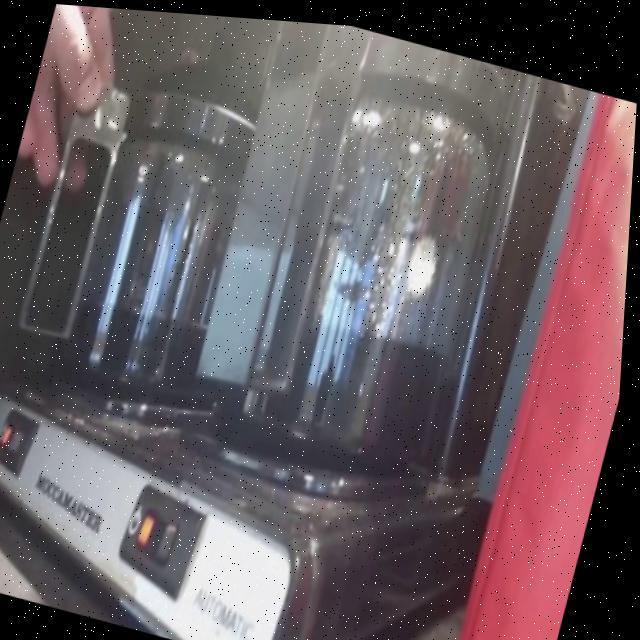coffee: (182, 12, 556, 528), (47, 63, 304, 430)
